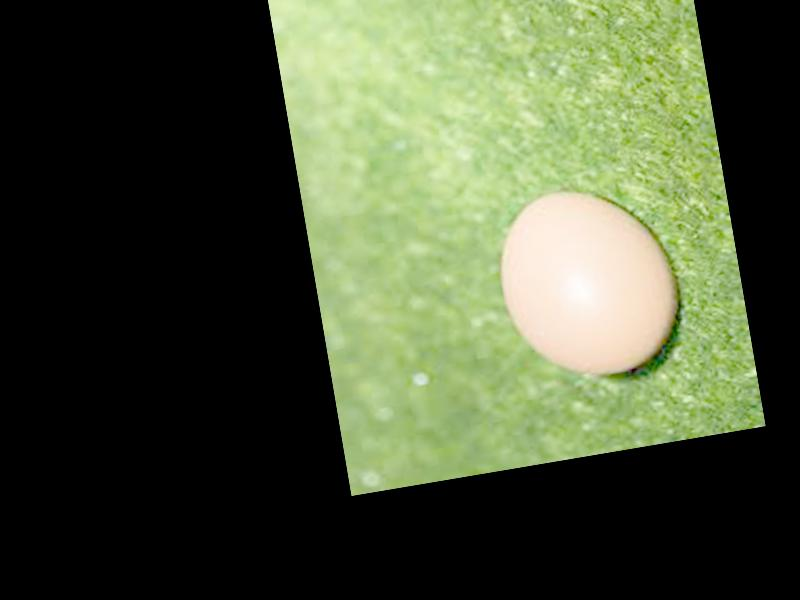Eggs: (490, 173, 690, 390)
